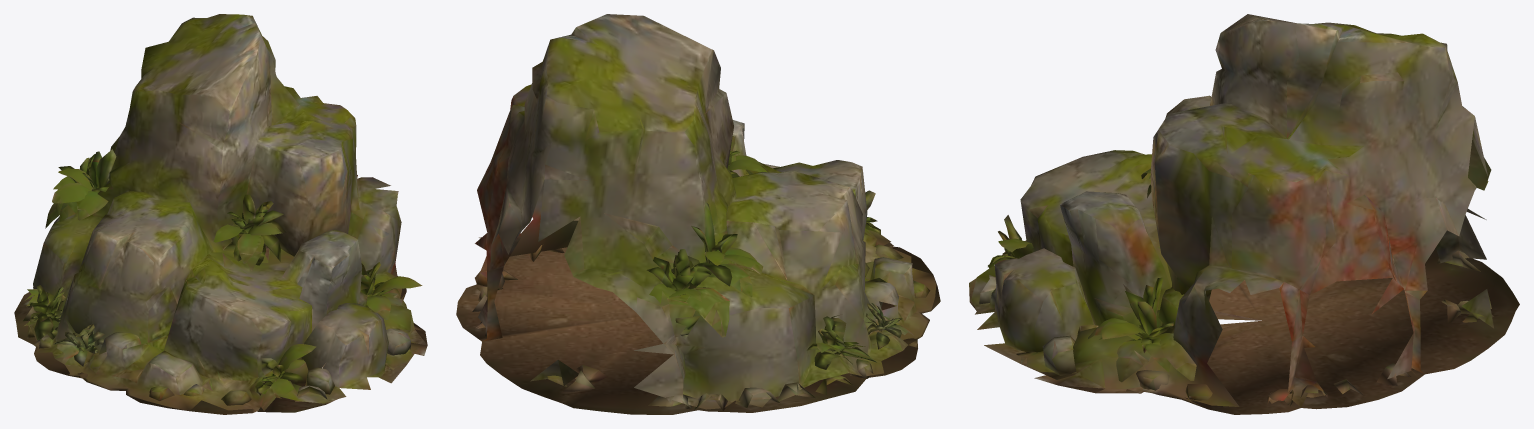
The model's file is node_rock.glb.
3 views of the same model, side by side, from view 1: azimuth 30°, elevation 25°; view 2: azimuth 150°, elevation 25°; view 3: azimuth 270°, elevation 25° (orthographic). The views are drawn at different scales.
Bounding box in the file's own units: 0.3511 × 0.2466 × 0.3765.
Materials: 1 (1 with a texture image).
